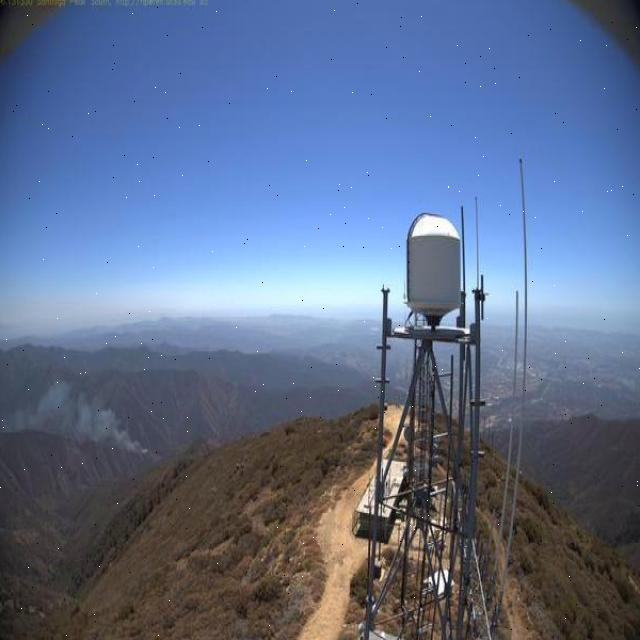smoke: (0, 372, 171, 465)
